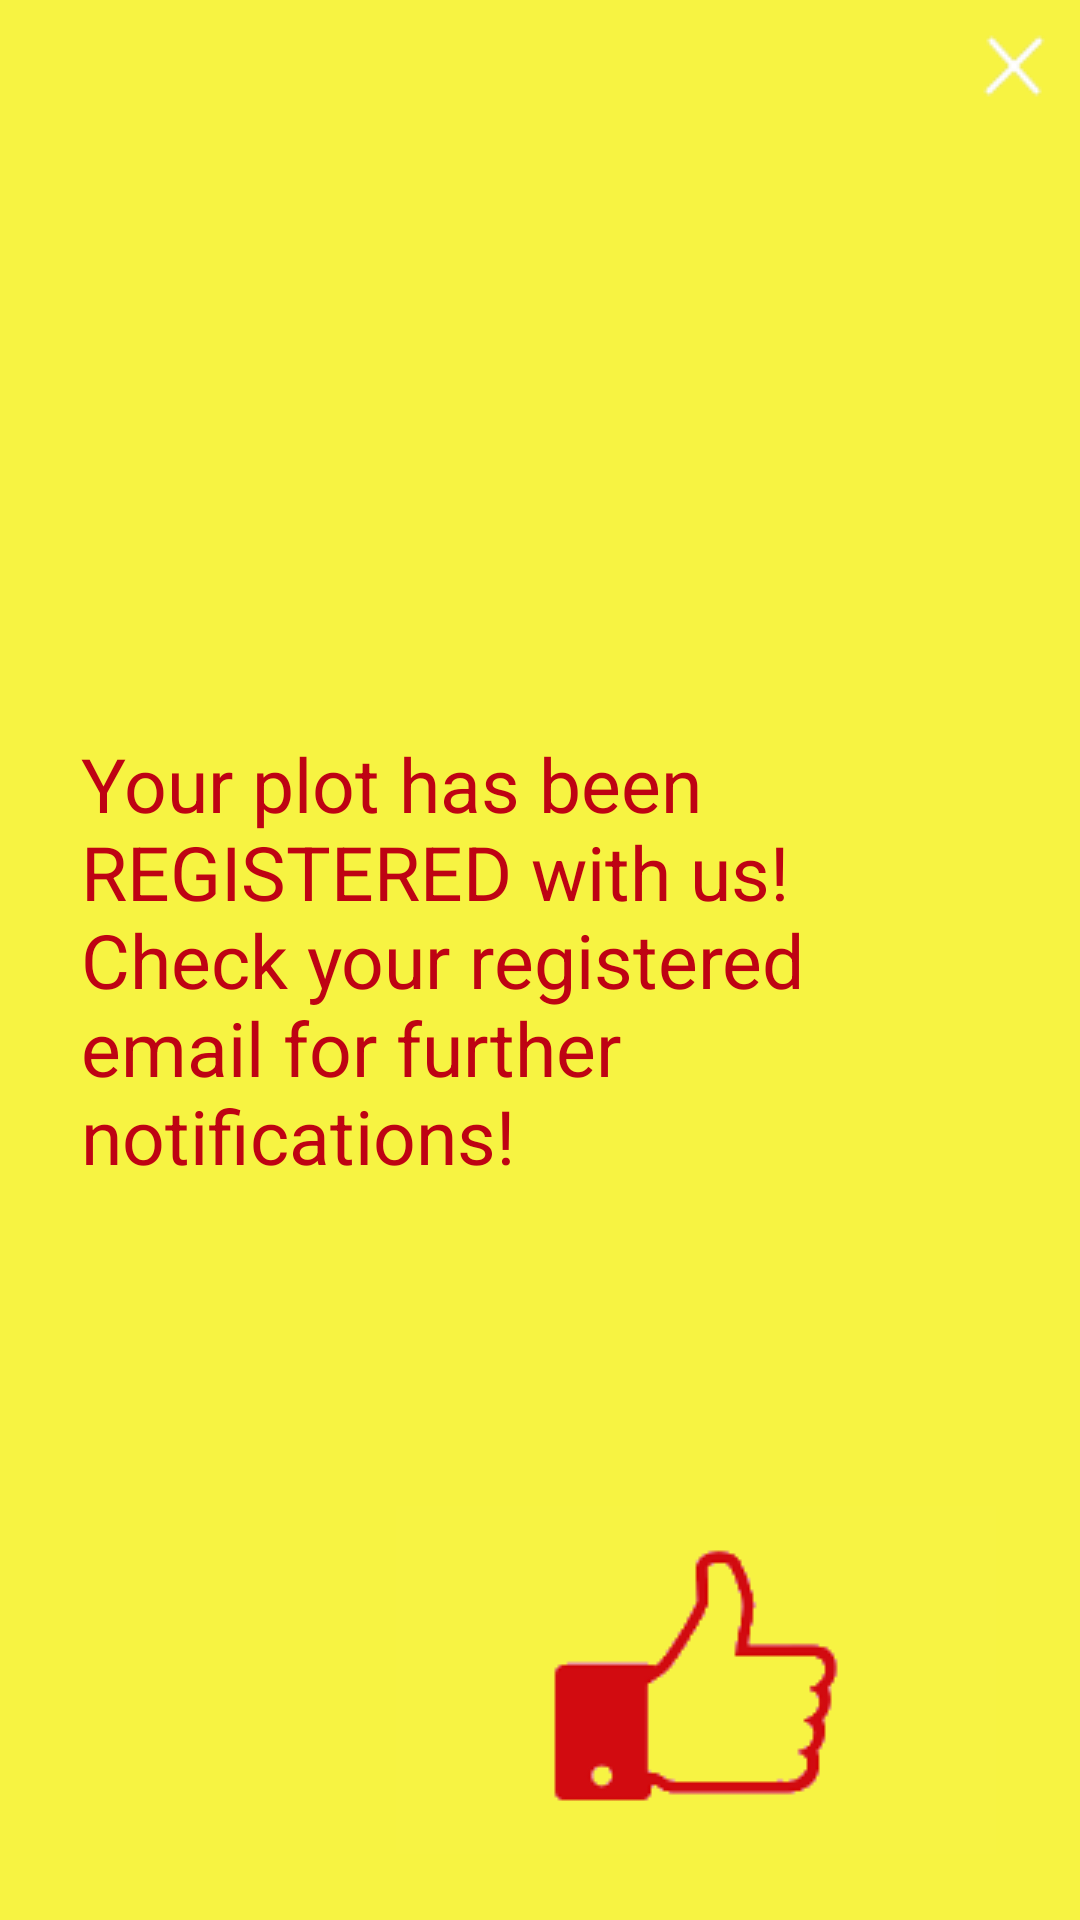

Screen size 1080 x 1920. Icon name, then its box in pixels as (x1, y1, x2, y2):
close: (984, 35, 1044, 97)
like rent: (554, 1550, 838, 1801)
